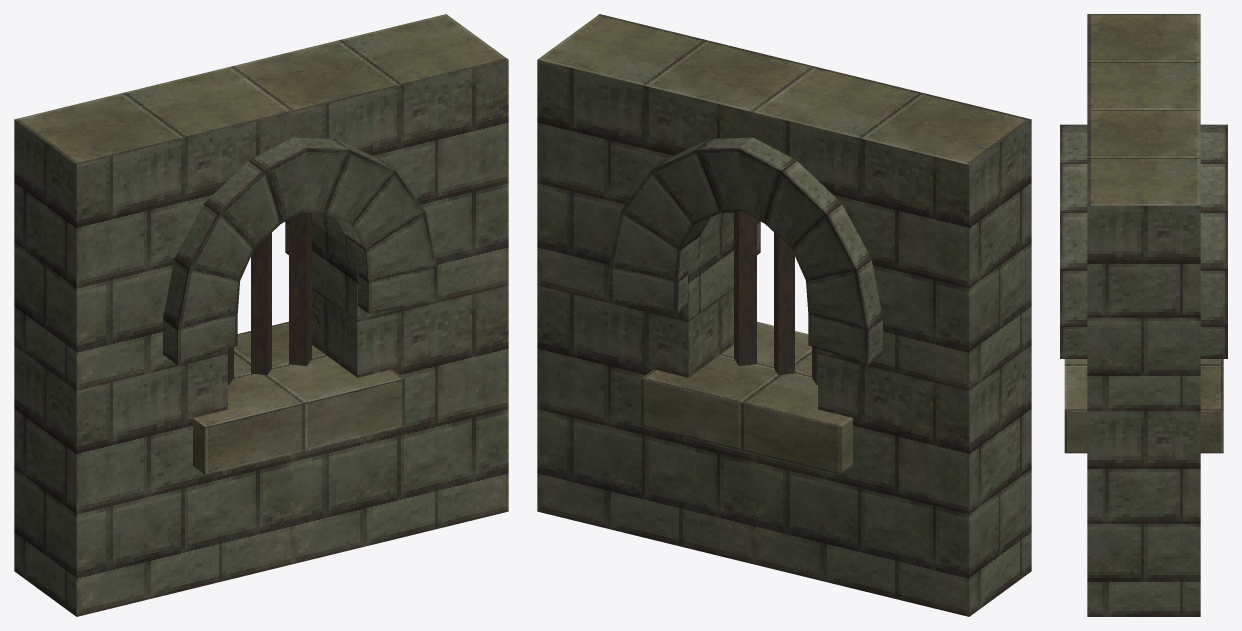
The model's file is windowed_wall_02.glb.
3 renders of one model, left to right at view 1: azimuth 30°, elevation 25°; view 2: azimuth 150°, elevation 25°; view 3: azimuth 270°, elevation 25°, orthographic. The views are drawn at different scales.
Visible parts, largest first — view 1: windowed_wall_02; view 2: windowed_wall_02; view 3: windowed_wall_02.
Part boxes in pixels (left/top/right/bottom): windowed_wall_02: left=14, top=14, right=508, bottom=616; windowed_wall_02: left=537, top=14, right=1031, bottom=616; windowed_wall_02: left=1060, top=14, right=1227, bottom=616.
Bounding box in the file's own units: 4 × 4 × 1.48.
Materials: 1 (1 with a texture image).
